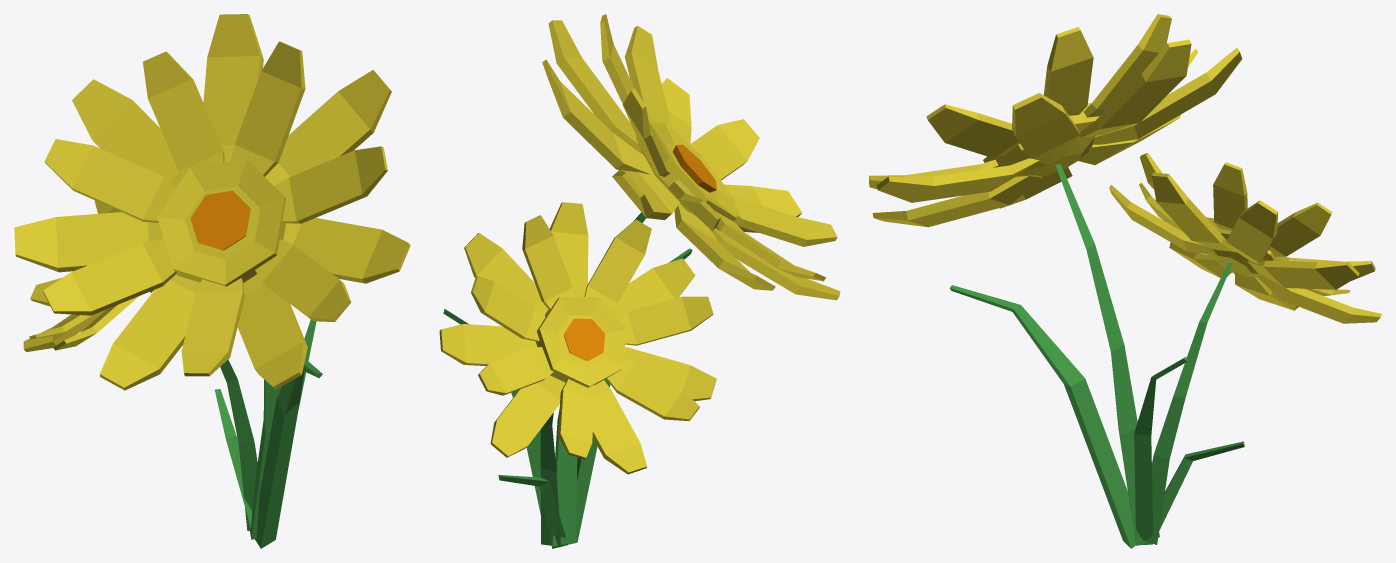
Rendered from modelDraco.gltf.
The picture shows the model from 3 angles, left to right: view 1: azimuth 30°, elevation 25°; view 2: azimuth 150°, elevation 25°; view 3: azimuth 270°, elevation 25°; orthographic projection. The views are drawn at different scales.
Parts seen in each view (by area): view 1: node_MeshObject-1859572352-PolyPaper10; view 2: node_MeshObject-1859572352-PolyPaper10; view 3: node_MeshObject-1859572352-PolyPaper10.
Boxes of the visible parts, box(x1,y1,x2,y2) form: node_MeshObject-1859572352-PolyPaper10: box(14, 14, 410, 548); node_MeshObject-1859572352-PolyPaper10: box(439, 14, 840, 548); node_MeshObject-1859572352-PolyPaper10: box(869, 14, 1381, 548).
Bounding box in the file's own units: 2.42 × 3.58 × 3.25.
